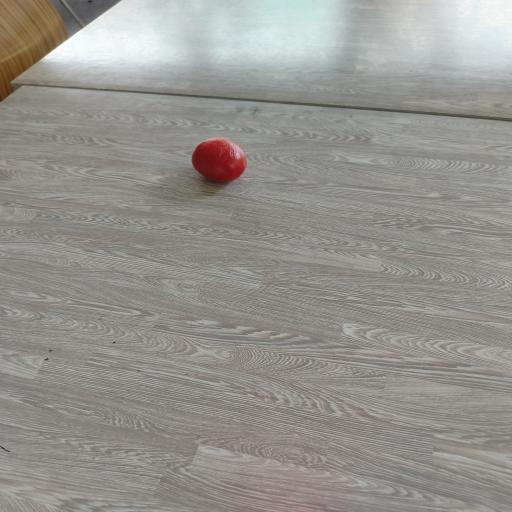spoiled: (192, 138, 246, 182)
